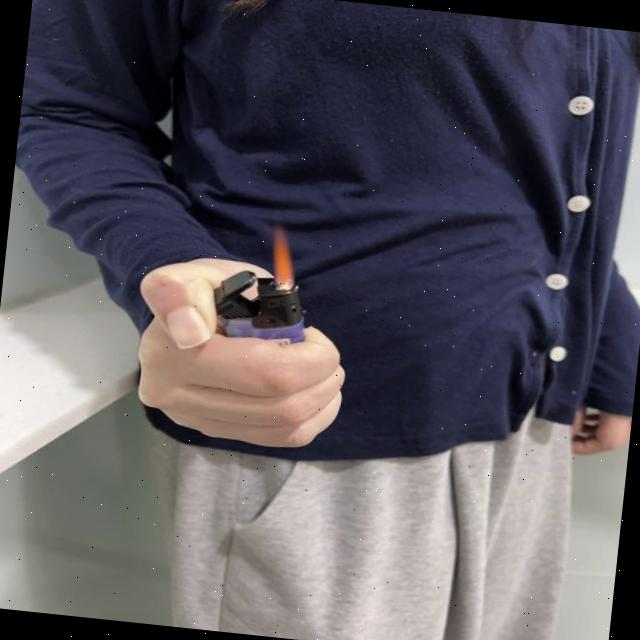fire: (264, 220, 301, 292)
